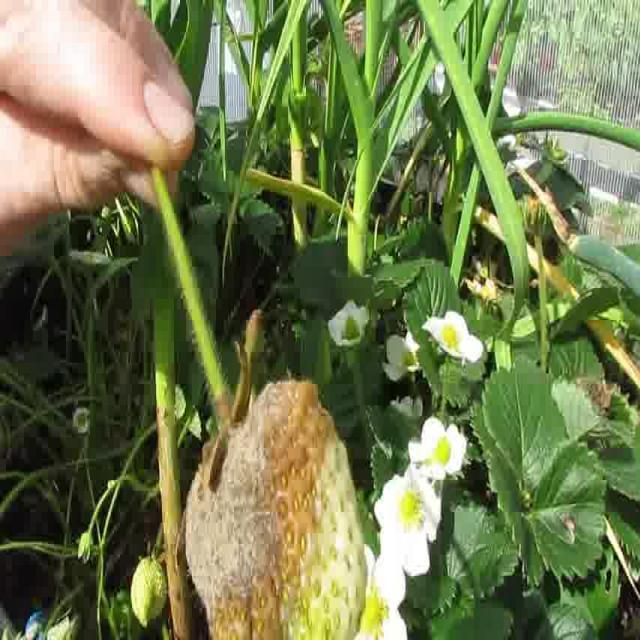Moho gris: (183, 403, 369, 640)
